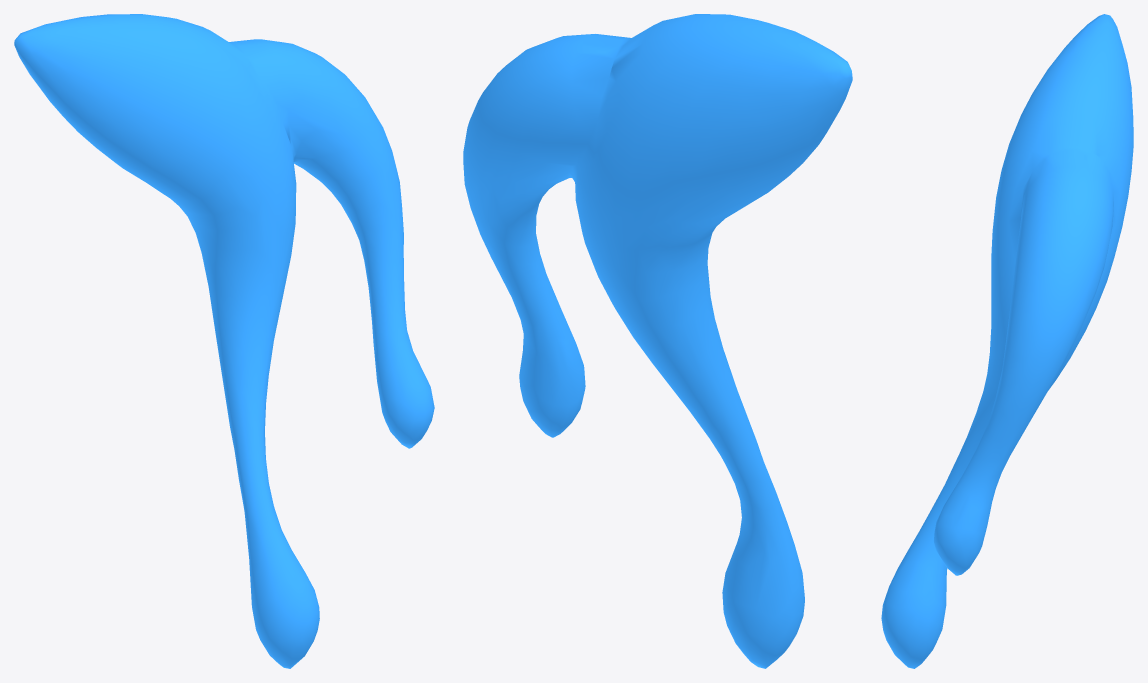
File: Sap2.fbx
3 renders of one model, left to right at view 1: azimuth 30°, elevation 25°; view 2: azimuth 150°, elevation 25°; view 3: azimuth 270°, elevation 25°, orthographic. The views are drawn at different scales.
Parts seen in each view (by area): view 1: BlueSap_B_Fork; view 2: BlueSap_B_Fork; view 3: BlueSap_B_Fork.
Boxes of the visible parts, left/top/right/bottom form: BlueSap_B_Fork: left=14, top=14, right=434, bottom=668; BlueSap_B_Fork: left=463, top=14, right=852, bottom=668; BlueSap_B_Fork: left=881, top=14, right=1133, bottom=668.
Size of the model in its own units: 66.23 by 112 by 43.88.
